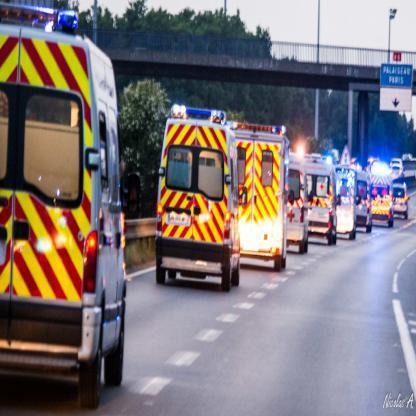Ambulance - v1 Ambulance last generate: (1, 0, 129, 409), (152, 104, 392, 294), (158, 105, 249, 292), (226, 121, 298, 272), (304, 152, 340, 244), (286, 152, 308, 254), (337, 160, 360, 240), (371, 160, 394, 226), (356, 164, 370, 232)
